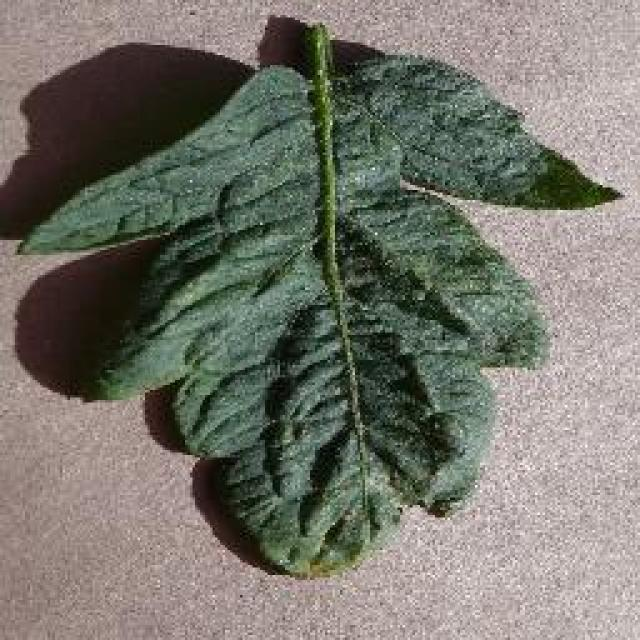Tomato___Spider_mites Two-spotted_spider_mite: (18, 25, 612, 575)
